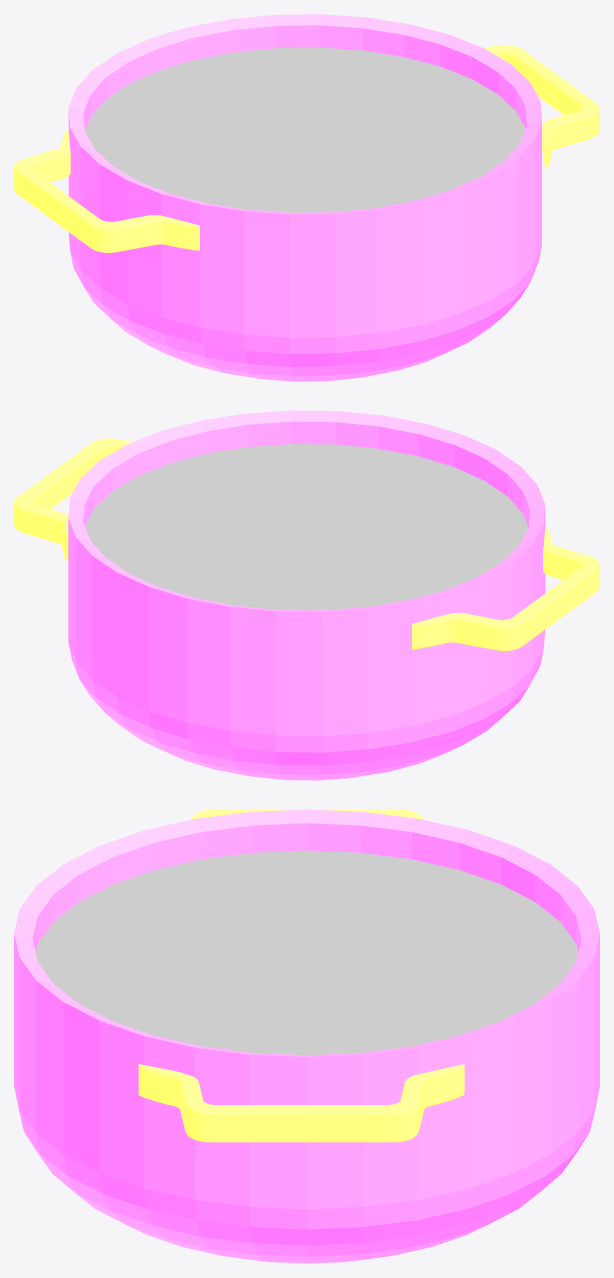
File: pott.glb
3 renders of one model, top to bottom at view 1: azimuth 30°, elevation 25°; view 2: azimuth 150°, elevation 25°; view 3: azimuth 270°, elevation 25°, orthographic. The views are drawn at different scales.
Visible parts, largest first — view 1: potbody_1, soupTransparent_1, pothandle_1; view 2: potbody_1, soupTransparent_1, pothandle_1; view 3: potbody_1, soupTransparent_1, pothandle_1.
Boxes of the visible parts, x1,y1,x2,y2 form: potbody_1: [68, 14, 541, 381]; soupTransparent_1: [85, 47, 525, 212]; pothandle_1: [14, 45, 599, 252]; potbody_1: [68, 410, 545, 780]; soupTransparent_1: [85, 444, 528, 610]; pothandle_1: [14, 438, 599, 650]; potbody_1: [14, 809, 599, 1263]; soupTransparent_1: [35, 850, 578, 1055]; pothandle_1: [138, 809, 464, 1142].
Size of the model in its own units: 1.41 by 0.606 by 1.15.
